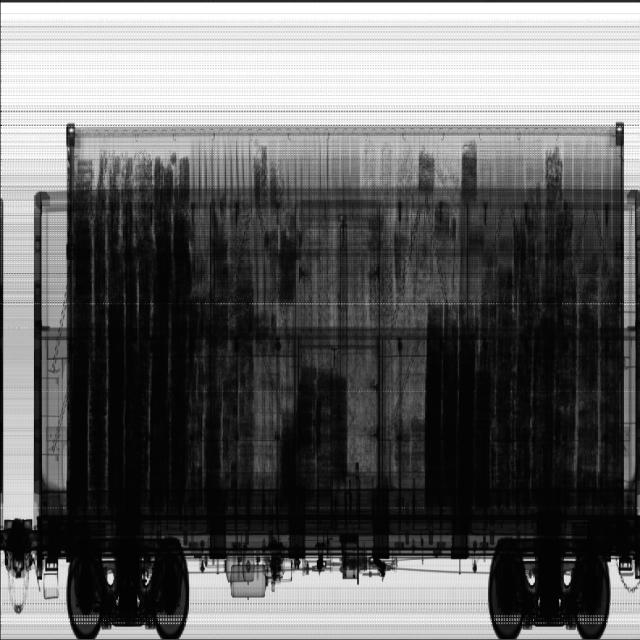spare parts: (277, 368, 349, 492)
table ware: (71, 151, 190, 227)
